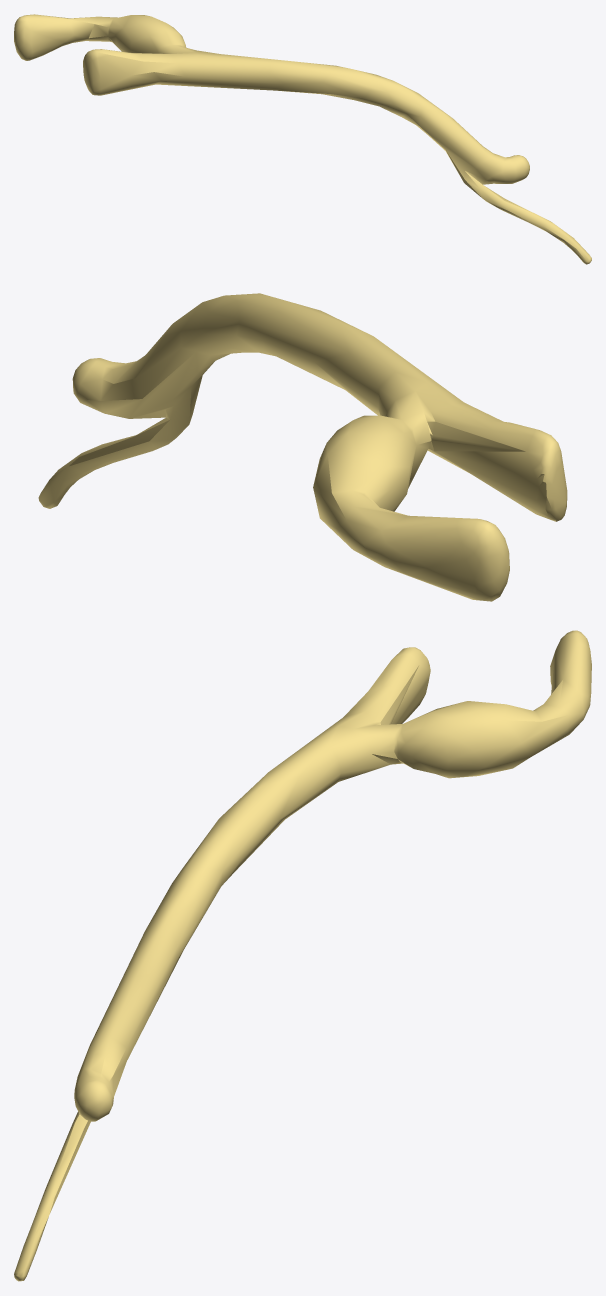
Rendered from fma7007_fj4263.glb.
3 renders of one model, top to bottom at view 1: azimuth 30°, elevation 25°; view 2: azimuth 150°, elevation 25°; view 3: azimuth 270°, elevation 25°, orthographic. The views are drawn at different scales.
Visible parts, largest first — view 1: FMA7007_FJ4263; view 2: FMA7007_FJ4263; view 3: FMA7007_FJ4263.
Boxes of the visible parts, box(x1,y1,x2,y2) form: FMA7007_FJ4263: box(14, 14, 591, 264); FMA7007_FJ4263: box(38, 293, 567, 601); FMA7007_FJ4263: box(14, 630, 591, 1281).
Bounding box in the file's own units: 0.028 × 0.0142 × 0.0216.
